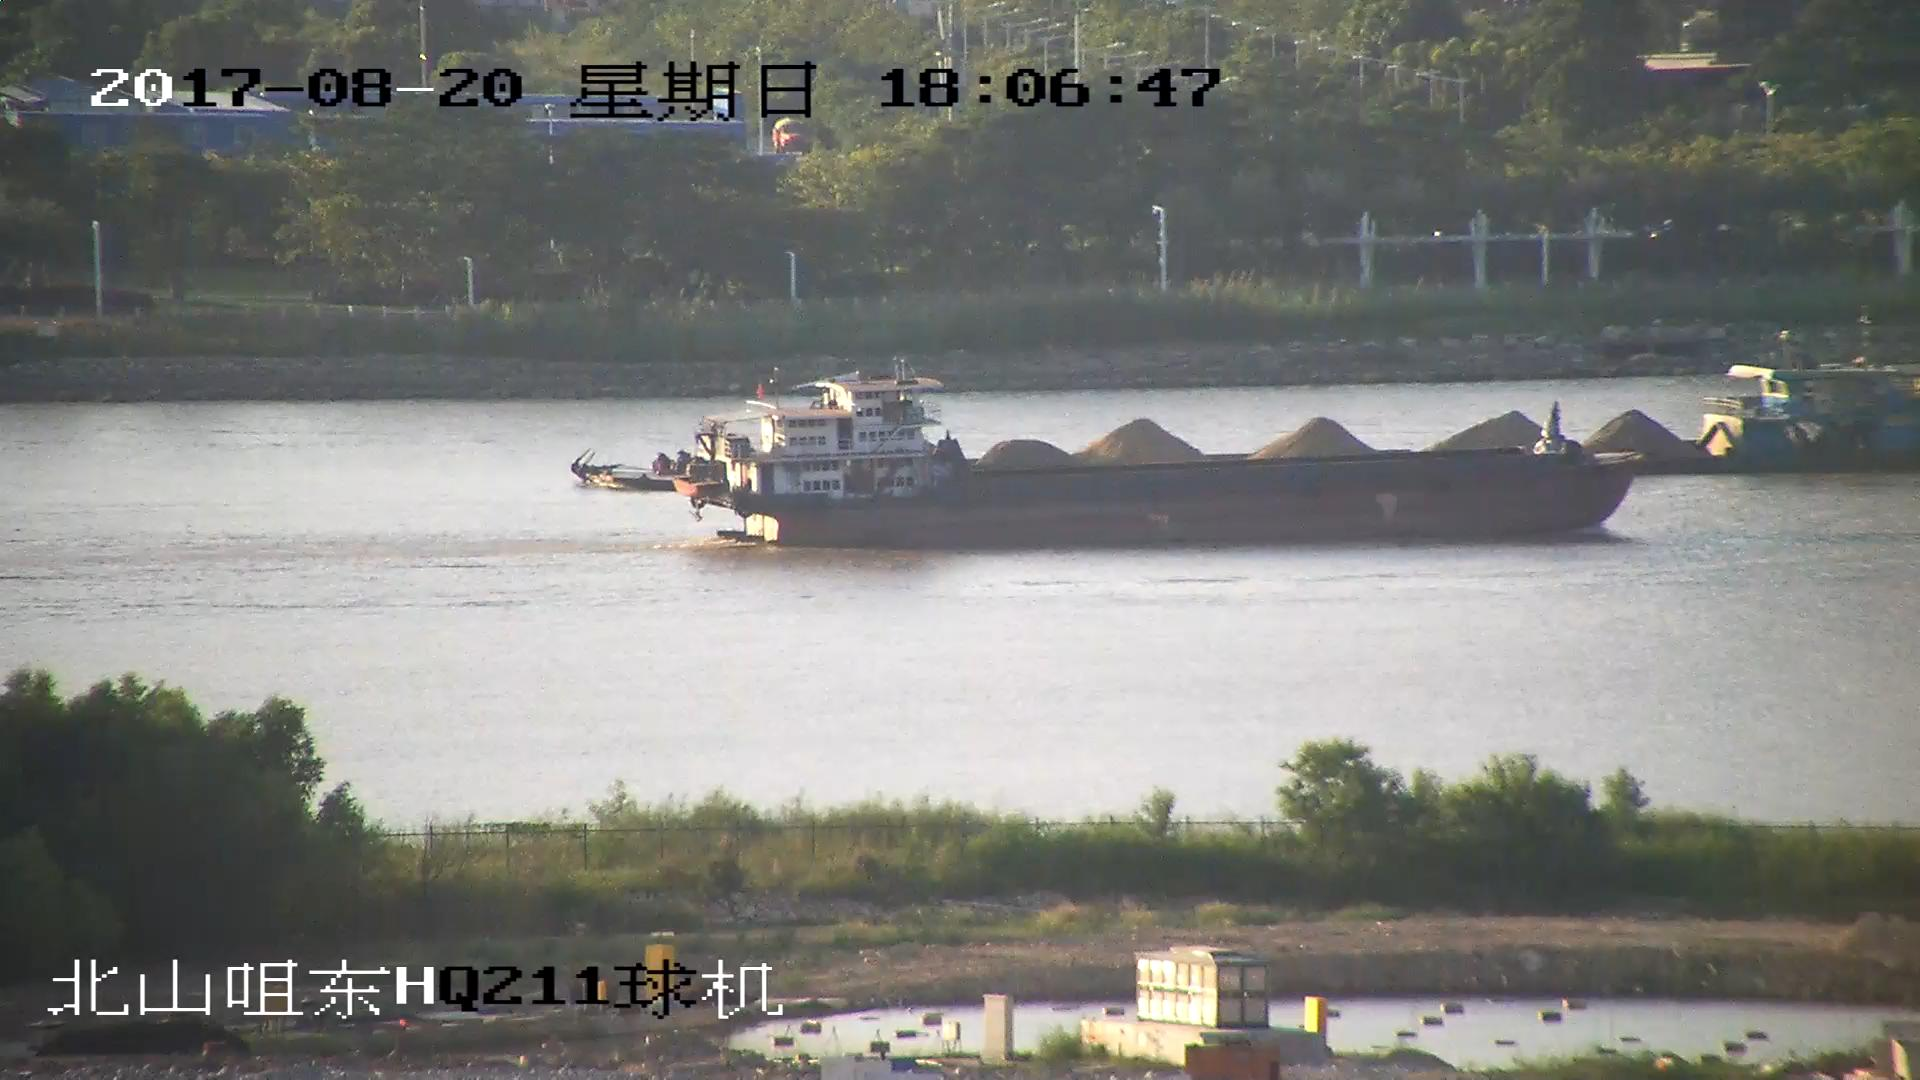bulk cargo carrier: (674, 378, 1648, 550)
ore carrier: (574, 344, 1920, 494)
